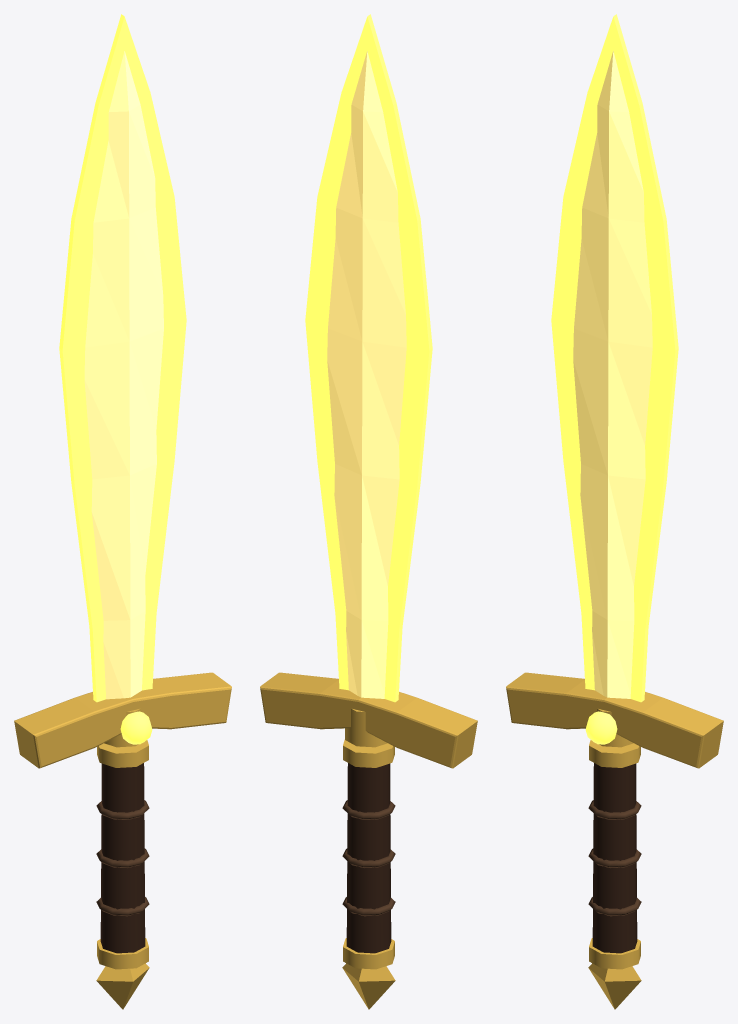
File: sword_f2_af946072.glb
3 views of the same model, side by side, from view 1: azimuth 30°, elevation 25°; view 2: azimuth 150°, elevation 25°; view 3: azimuth 330°, elevation 25° (orthographic).
Parts seen in each view (by area): view 1: m0_ow80_, m1_gm110_, m4_ow80_, m2_ow80_, m5_ow80_, m3_gm160_; view 2: m0_ow80_, m1_gm110_, m4_ow80_, m2_ow80_, m5_ow80_; view 3: m0_ow80_, m1_gm110_, m4_ow80_, m2_ow80_, m5_ow80_, m3_gm160_.
Part boxes in pixels (x1,y1,x2,y2): m0_ow80_: [84, 51, 163, 699]; m1_gm110_: [59, 14, 186, 702]; m4_ow80_: [14, 672, 231, 1009]; m2_ow80_: [100, 763, 145, 953]; m5_ow80_: [96, 800, 149, 916]; m3_gm160_: [120, 711, 152, 744]; m0_ow80_: [327, 51, 406, 698]; m1_gm110_: [305, 14, 432, 702]; m4_ow80_: [260, 672, 477, 1009]; m2_ow80_: [346, 763, 391, 953]; m5_ow80_: [342, 800, 395, 916]; m0_ow80_: [573, 51, 652, 698]; m1_gm110_: [551, 14, 678, 702]; m4_ow80_: [506, 672, 723, 1009]; m2_ow80_: [592, 763, 637, 953]; m5_ow80_: [588, 800, 641, 916]; m3_gm160_: [585, 711, 617, 744].
Bounding box in the file's own units: 0.3891 × 1.86 × 0.1189.
